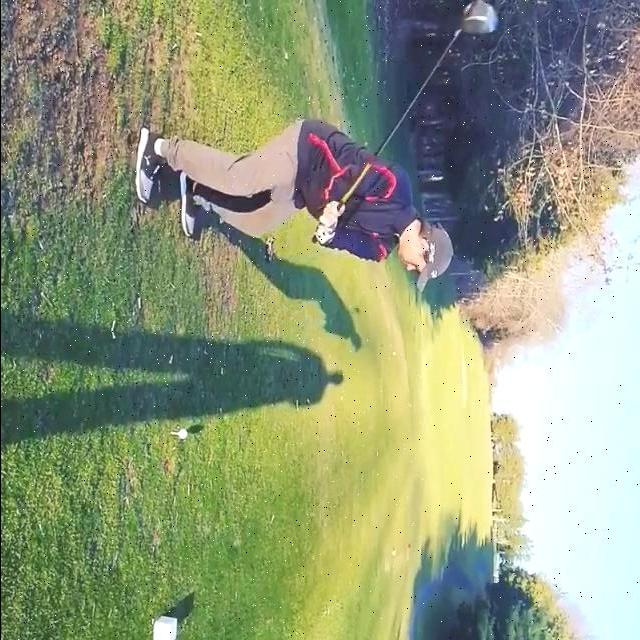ClubHandle: (310, 0, 497, 245)
ClubHead: (459, 0, 498, 34)
GolfBall: (178, 429, 186, 438)
